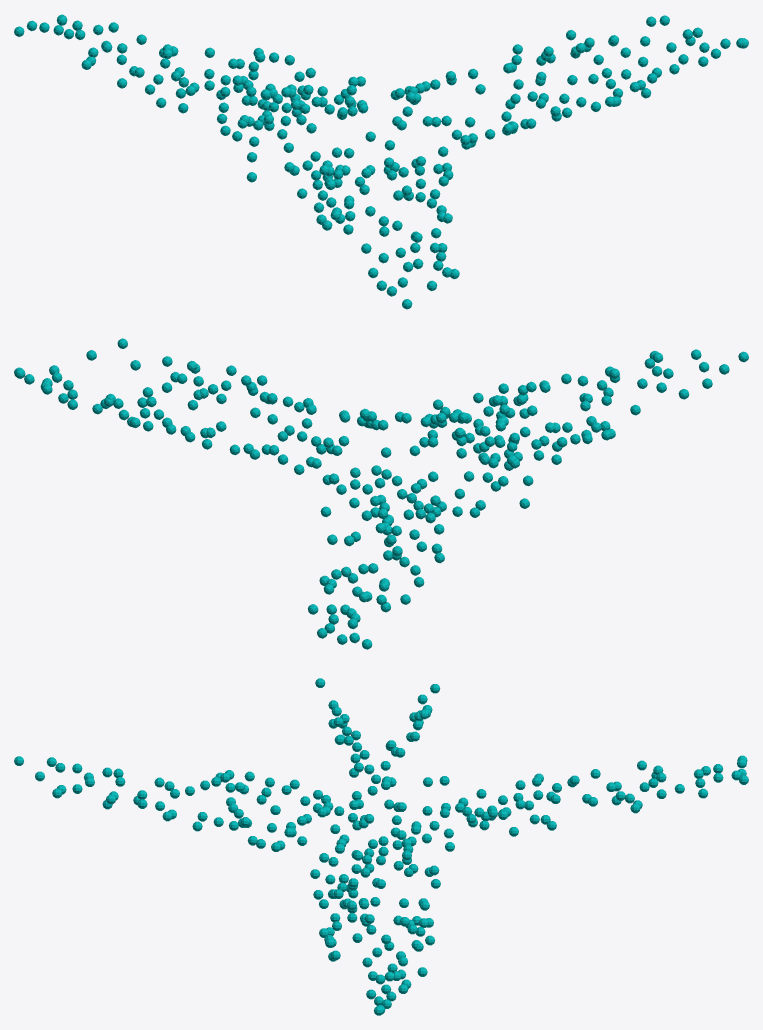
The picture shows the model from 3 angles, top to bottom: view 1: azimuth 30°, elevation 25°; view 2: azimuth 150°, elevation 25°; view 3: azimuth 270°, elevation 25°; orthographic projection. The views are drawn at different scales.
Size of the model in its own units: 0.8165 by 0.2077 by 1.01.
